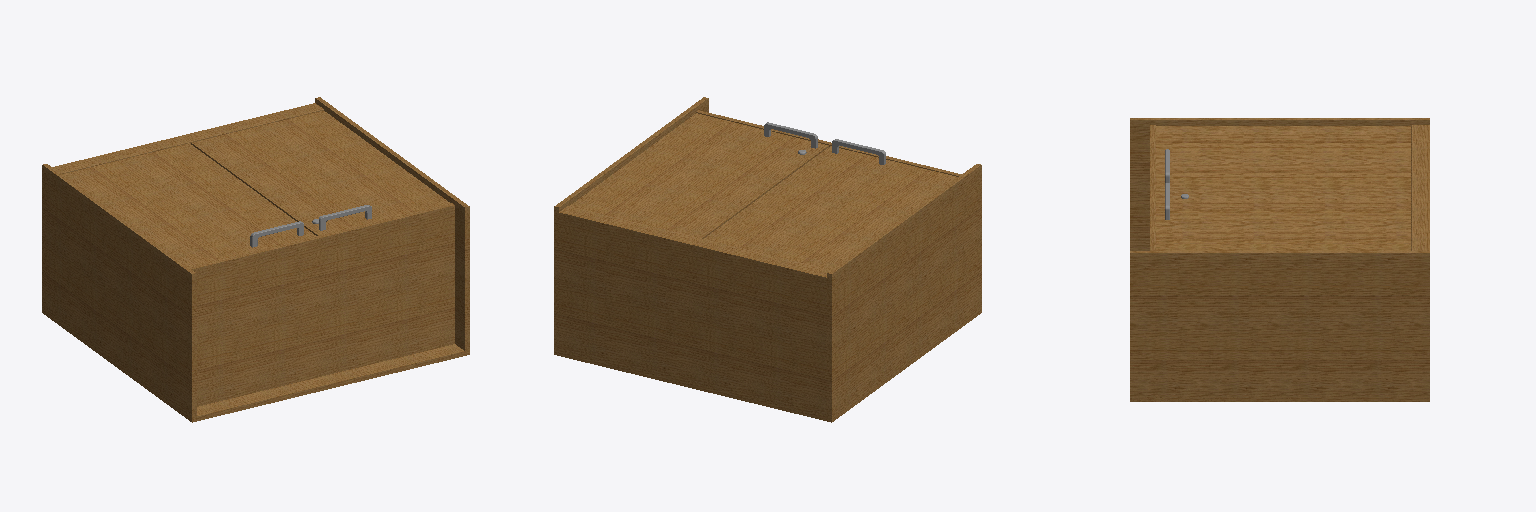
3 views of the same model, side by side, from view 1: azimuth 30°, elevation 25°; view 2: azimuth 150°, elevation 25°; view 3: azimuth 270°, elevation 25° (orthographic).
Visible parts, largest first — view 1: Rectangle0, Rectangle7, Rectangle6, Rectangle1, Rectangle2, Rectangle8, Rectangle3; view 2: Rectangle3, Rectangle7, Rectangle6, Rectangle1, Rectangle8, Rectangle2, Rectangle0; view 3: Rectangle8, Rectangle1, Rectangle6, Rectangle7, Rectangle3, Rectangle0.
Boxes of the visible parts, box(x1,y1,x2,y2) form: Rectangle0: box(189, 203, 454, 406); Rectangle7: box(42, 164, 196, 418); Rectangle6: box(191, 111, 450, 235); Rectangle1: box(62, 143, 315, 266); Rectangle2: box(42, 308, 469, 422); Rectangle8: box(315, 97, 469, 350); Rectangle3: box(52, 103, 323, 173); Rectangle3: box(559, 206, 830, 415); Rectangle7: box(827, 164, 981, 421); Rectangle6: box(570, 113, 828, 238); Rectangle1: box(704, 146, 957, 269); Rectangle8: box(554, 97, 708, 354); Rectangle2: box(557, 317, 975, 422); Rectangle0: box(696, 110, 961, 176); Rectangle8: box(1130, 251, 1429, 401); Rectangle1: box(1156, 126, 1410, 190); Rectangle6: box(1156, 191, 1410, 250); Rectangle7: box(1130, 118, 1429, 250); Rectangle3: box(1412, 125, 1429, 250); Rectangle0: box(1150, 125, 1155, 250).
Bounding box in the file's own units: 900 × 484 × 840.
Materials: 3 (1 with a texture image).